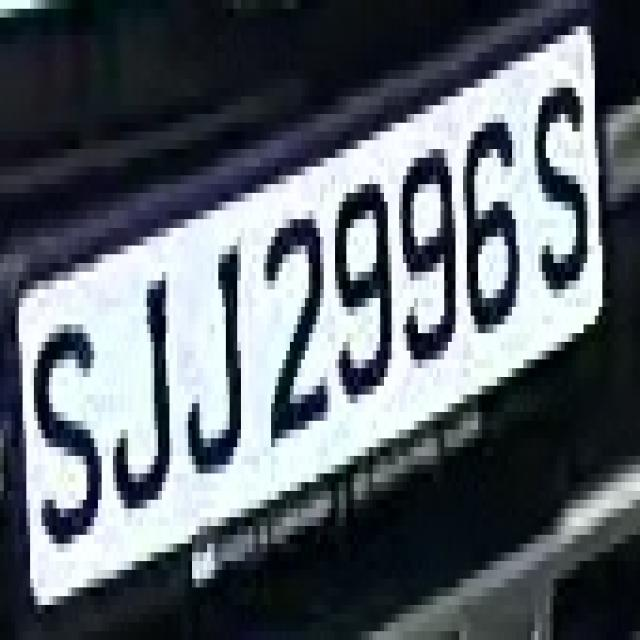2: (260, 193, 331, 465)
6: (459, 87, 524, 350)
9: (384, 105, 459, 386), (320, 167, 399, 412)
J: (177, 219, 256, 500), (106, 263, 184, 535)
S: (26, 289, 102, 605), (524, 52, 602, 306)
